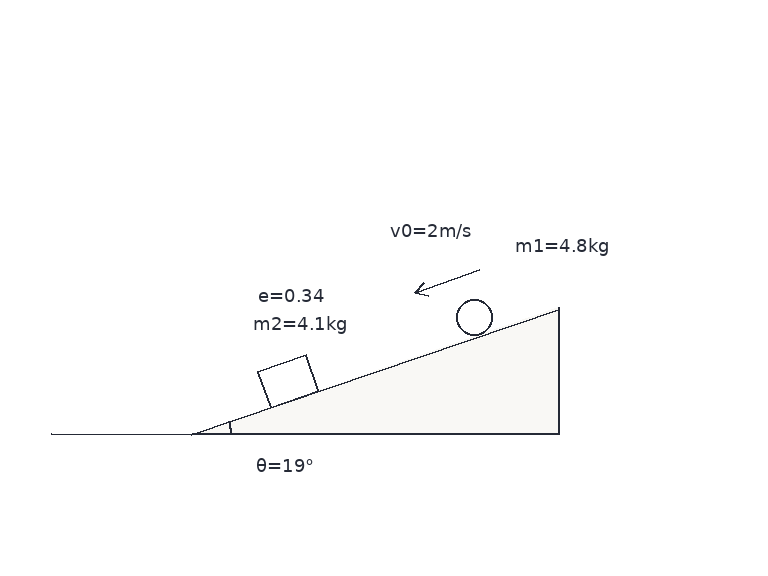ball: (454, 297, 494, 337)
block: (255, 353, 320, 409)
ramp: (189, 306, 560, 436)
